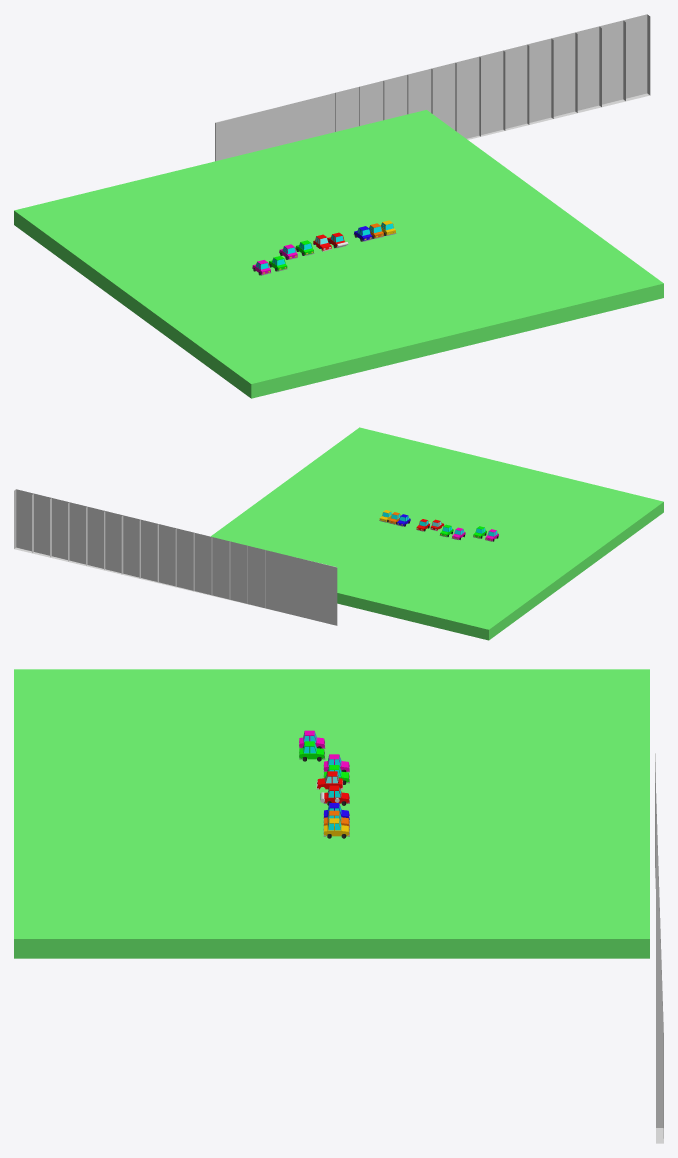
Rendered from Gotthard_3.1.glb.
3 views of the same model, one above another, from view 1: azimuth 30°, elevation 25°; view 2: azimuth 150°, elevation 25°; view 3: azimuth 270°, elevation 25° (orthographic). The views are drawn at different scales.
Visible parts, largest first — view 1: Erde, Autobahn; view 2: Erde, Autobahn; view 3: Erde, Autobahn.
Part boxes in pixels (<box>): Erde: <box>14,110,663,398</box>; Autobahn: <box>215,14,650,161</box>; Erde: <box>211,427,663,640</box>; Autobahn: <box>14,489,337,625</box>; Erde: <box>14,669,649,958</box>; Autobahn: <box>655,753,663,1143</box>.
Bounding box in the file's own units: 9.24 × 1.09 × 6.08.
Materials: 9 (9 with a texture image).
